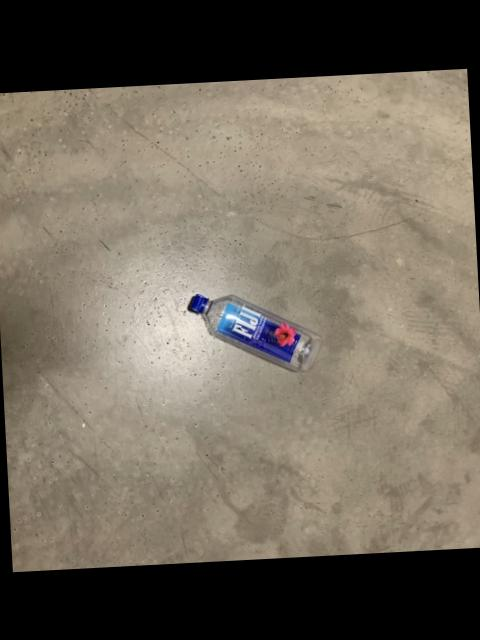plastic: (186, 295, 320, 371)
